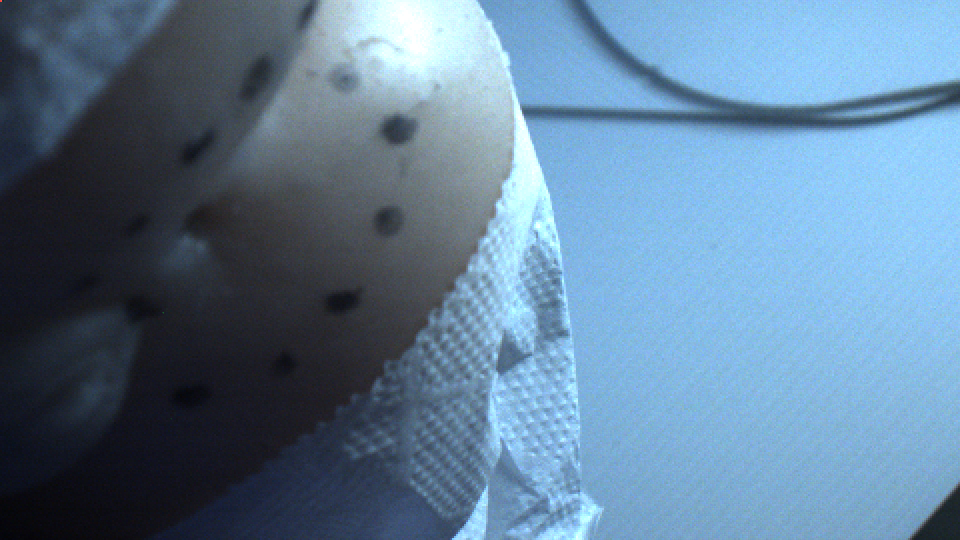asarp_marker: (238, 51, 277, 100), (169, 374, 218, 411), (326, 58, 368, 98), (371, 200, 410, 240), (325, 283, 368, 317), (266, 349, 314, 378), (377, 111, 419, 144), (186, 126, 221, 162), (121, 208, 155, 241), (63, 276, 101, 302), (125, 296, 164, 320)
